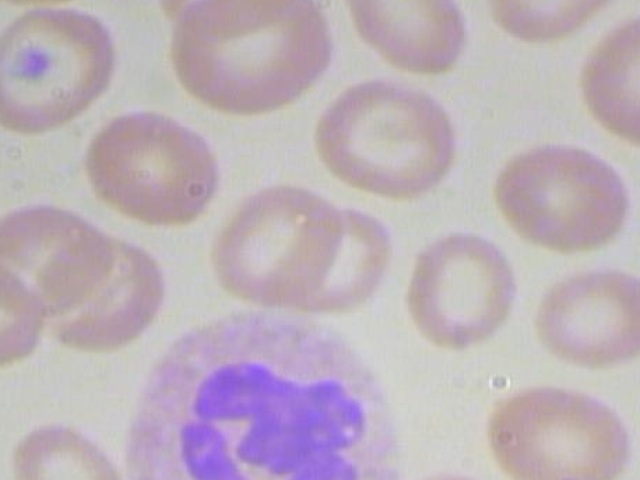RBC: (305, 72, 467, 213), (162, 0, 336, 119), (194, 184, 354, 313), (70, 108, 224, 226), (490, 135, 635, 256), (0, 0, 126, 134), (472, 382, 632, 480), (395, 228, 520, 352), (0, 200, 118, 318), (524, 261, 640, 375), (330, 0, 474, 80), (573, 7, 640, 148), (0, 420, 133, 480), (0, 248, 58, 366), (377, 454, 513, 480), (637, 437, 640, 480)
WBC: (117, 303, 423, 480)
